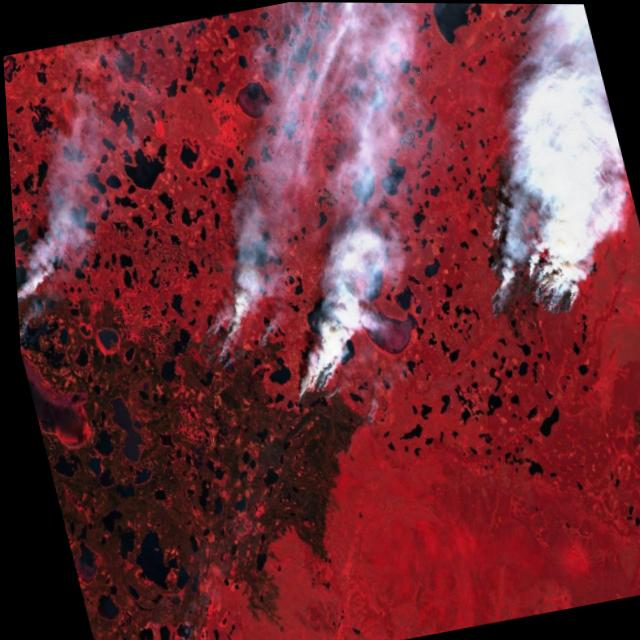fire: (462, 216, 599, 349), (271, 334, 364, 432), (183, 297, 257, 376), (13, 270, 55, 336)
